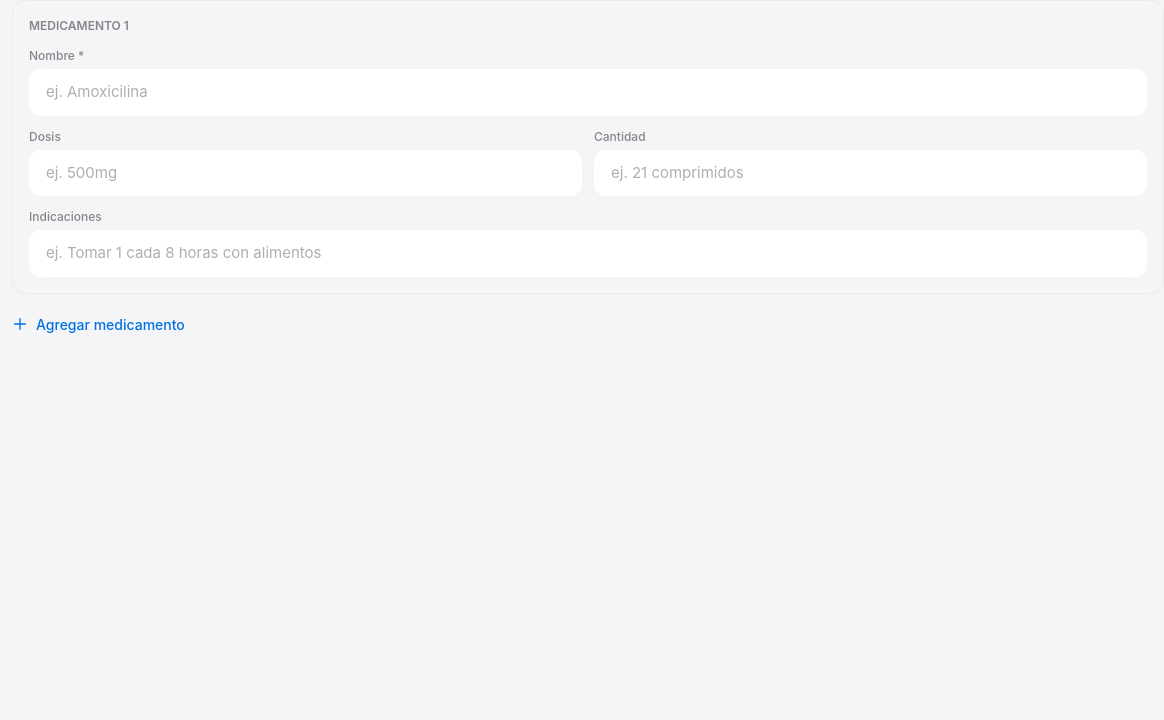
ItemsArray › removes an item when clicking Eliminar
The image size is (1164, 720).
What coordinates should you click on to do the following:
click the button "Agregar medicamento"
I would click on:
 (98, 324)
Its box is [12, 306, 185, 342].
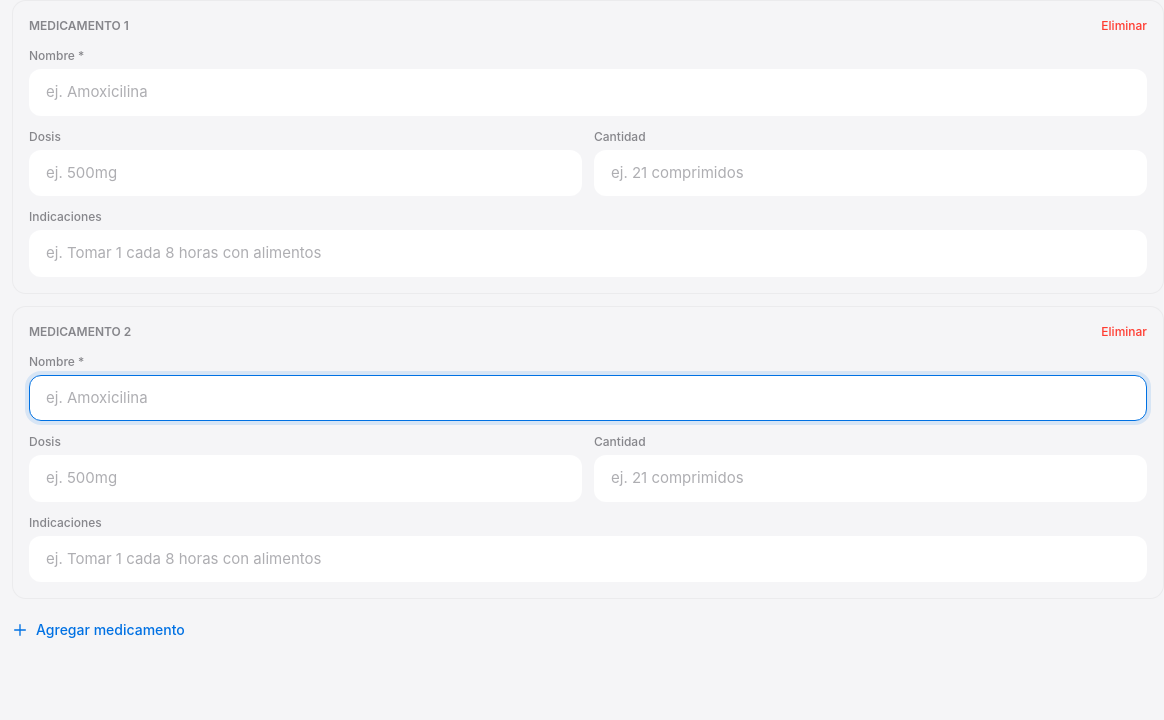
Check: the text "MEDICAMENTO 2" is shown, box [29, 322, 131, 340]
What coordinates should you click on to do the following:
click the 2nd button "Eliminar"
I would click on:
 (1124, 332)
Its box is [1101, 322, 1147, 340].
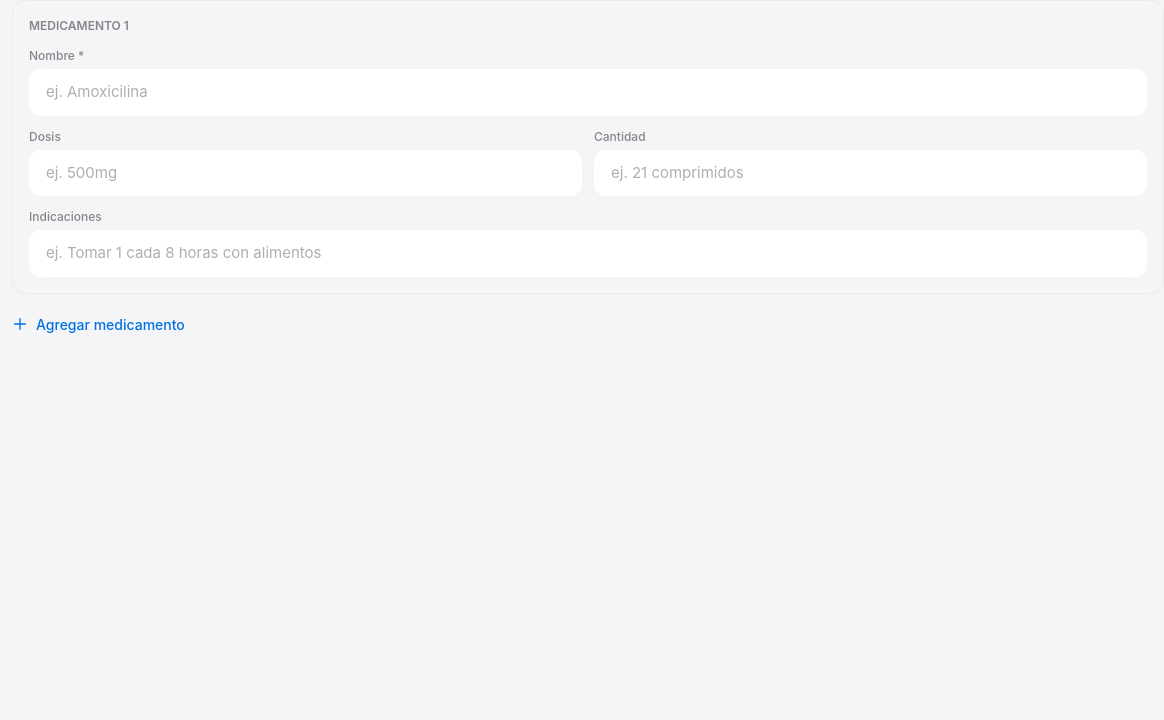
Check: the text "MEDICAMENTO 2" is gone
Check: the button "Eliminar" is gone
